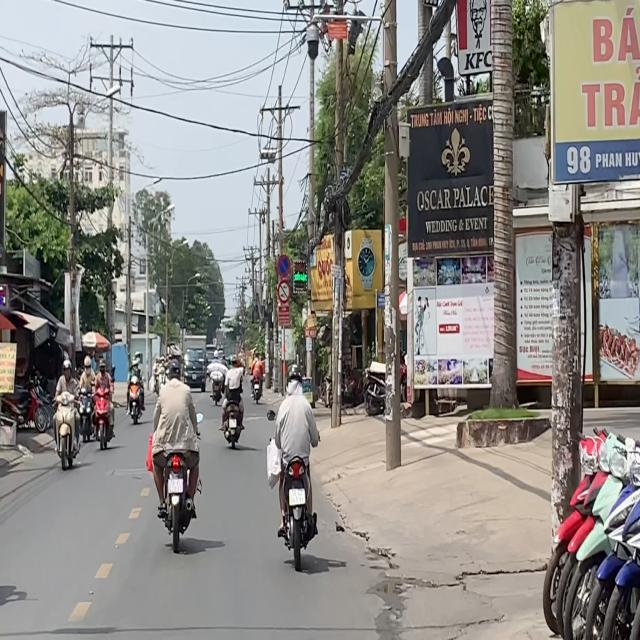Cam con lai: (277, 280, 290, 304)
Cam do: (277, 254, 291, 278)
